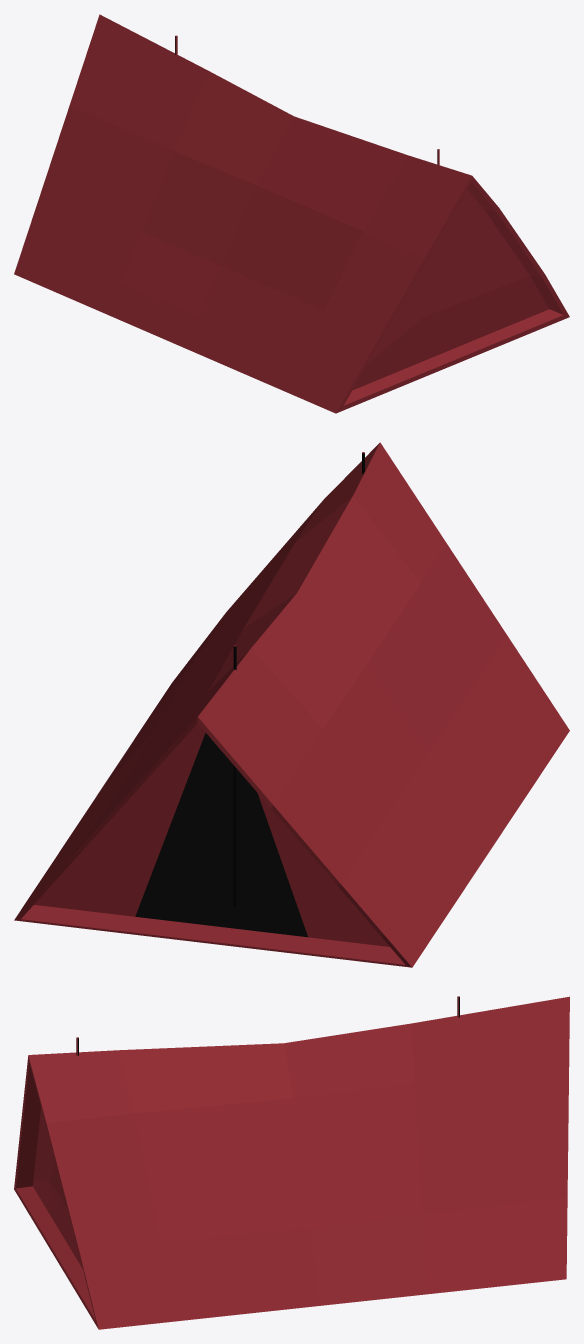
File: tienda_3.fbx
3 renders of one model, top to bottom at view 1: azimuth 30°, elevation 25°; view 2: azimuth 150°, elevation 25°; view 3: azimuth 270°, elevation 25°, orthographic. The views are drawn at different scales.
Visible parts, largest first — view 1: tent_triangulo; view 2: tent_triangulo; view 3: tent_triangulo.
Boxes of the visible parts, x1,y1,x2,y2 form: tent_triangulo: (14, 14, 569, 413); tent_triangulo: (14, 442, 569, 967); tent_triangulo: (14, 996, 569, 1329).
Bounding box in the file's own units: 328 × 176 × 404.
